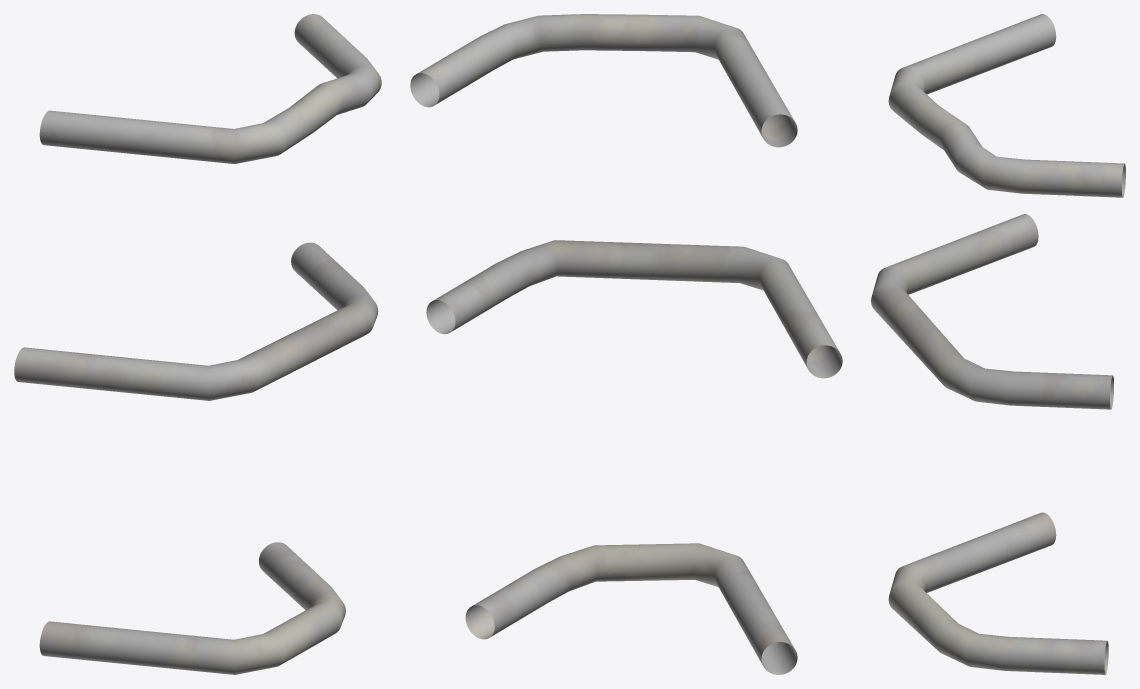
Rendered from wallLadders.fbx.
3 views of the same model, side by side, from view 1: azimuth 30°, elevation 25°; view 2: azimuth 150°, elevation 25°; view 3: azimuth 270°, elevation 25° (orthographic). The views are drawn at different scales.
Parts seen in each view (by area): view 1: wallLadder01.001, wallLadder01.002, wallLadder01; view 2: wallLadder01.001, wallLadder01.002, wallLadder01; view 3: wallLadder01.001, wallLadder01.002, wallLadder01.
Part boxes in pixels (bbox=[...]): wallLadder01.001: bbox=[14, 242, 378, 400]; wallLadder01.002: bbox=[39, 14, 381, 163]; wallLadder01: bbox=[39, 542, 345, 674]; wallLadder01.001: bbox=[426, 240, 842, 378]; wallLadder01.002: bbox=[410, 14, 797, 147]; wallLadder01: bbox=[465, 543, 797, 674]; wallLadder01.001: bbox=[871, 214, 1113, 409]; wallLadder01.002: bbox=[888, 14, 1125, 197]; wallLadder01: bbox=[888, 512, 1108, 674].
Bounding box in the file's own units: 59.93 × 86.57 × 37.08.
